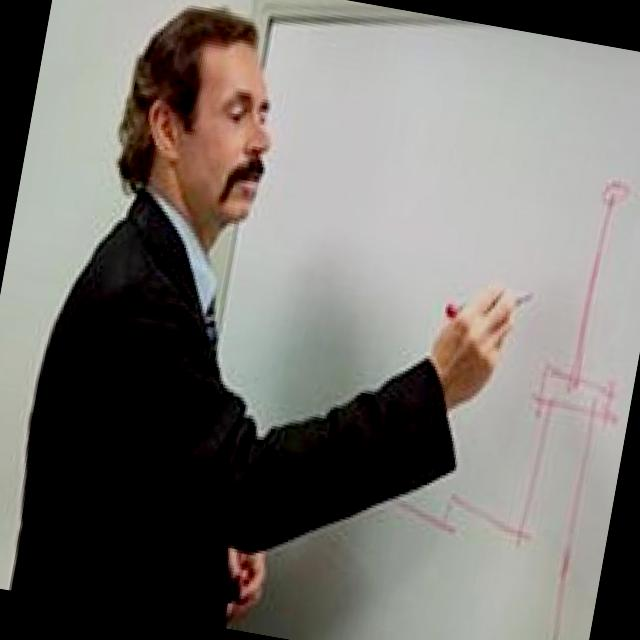no_vest: (0, 179, 319, 632)
